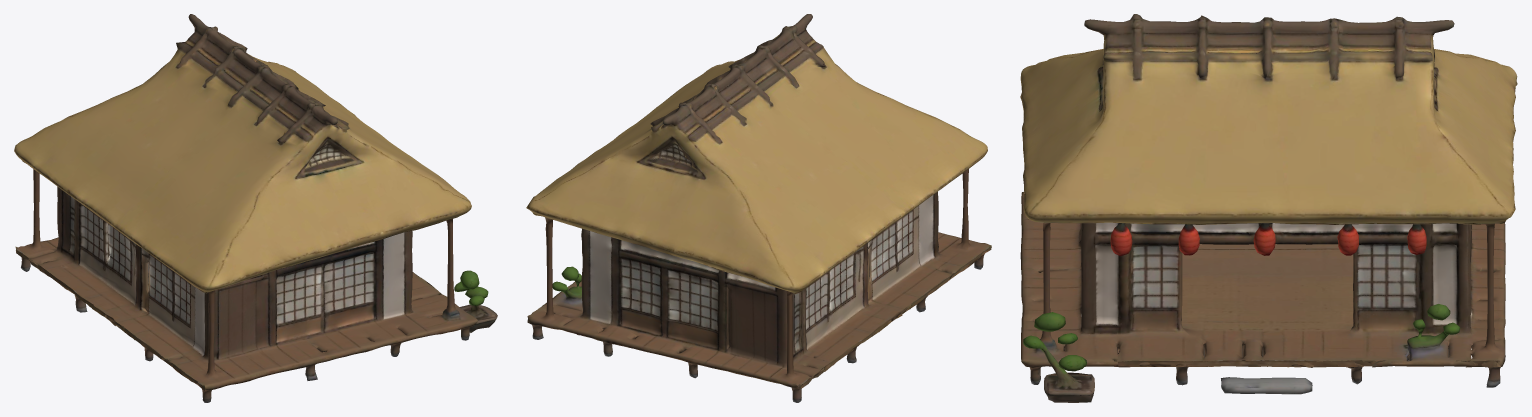
File: thatched+house+3d+model.fbx
3 views of the same model, side by side, from view 1: azimuth 30°, elevation 25°; view 2: azimuth 150°, elevation 25°; view 3: azimuth 270°, elevation 25° (orthographic). The views are drawn at different scales.
Parts seen in each view (by area): view 1: tripo_node_dd8b5c02; view 2: tripo_node_dd8b5c02; view 3: tripo_node_dd8b5c02.
Part boxes in pixels (x1,y1,x2,y2): tripo_node_dd8b5c02: [14, 14, 497, 402]; tripo_node_dd8b5c02: [526, 14, 991, 402]; tripo_node_dd8b5c02: [1020, 14, 1517, 402].
Size of the model in its own units: 0.8949 by 0.6577 by 0.9881.
1 material, 1 textured.
